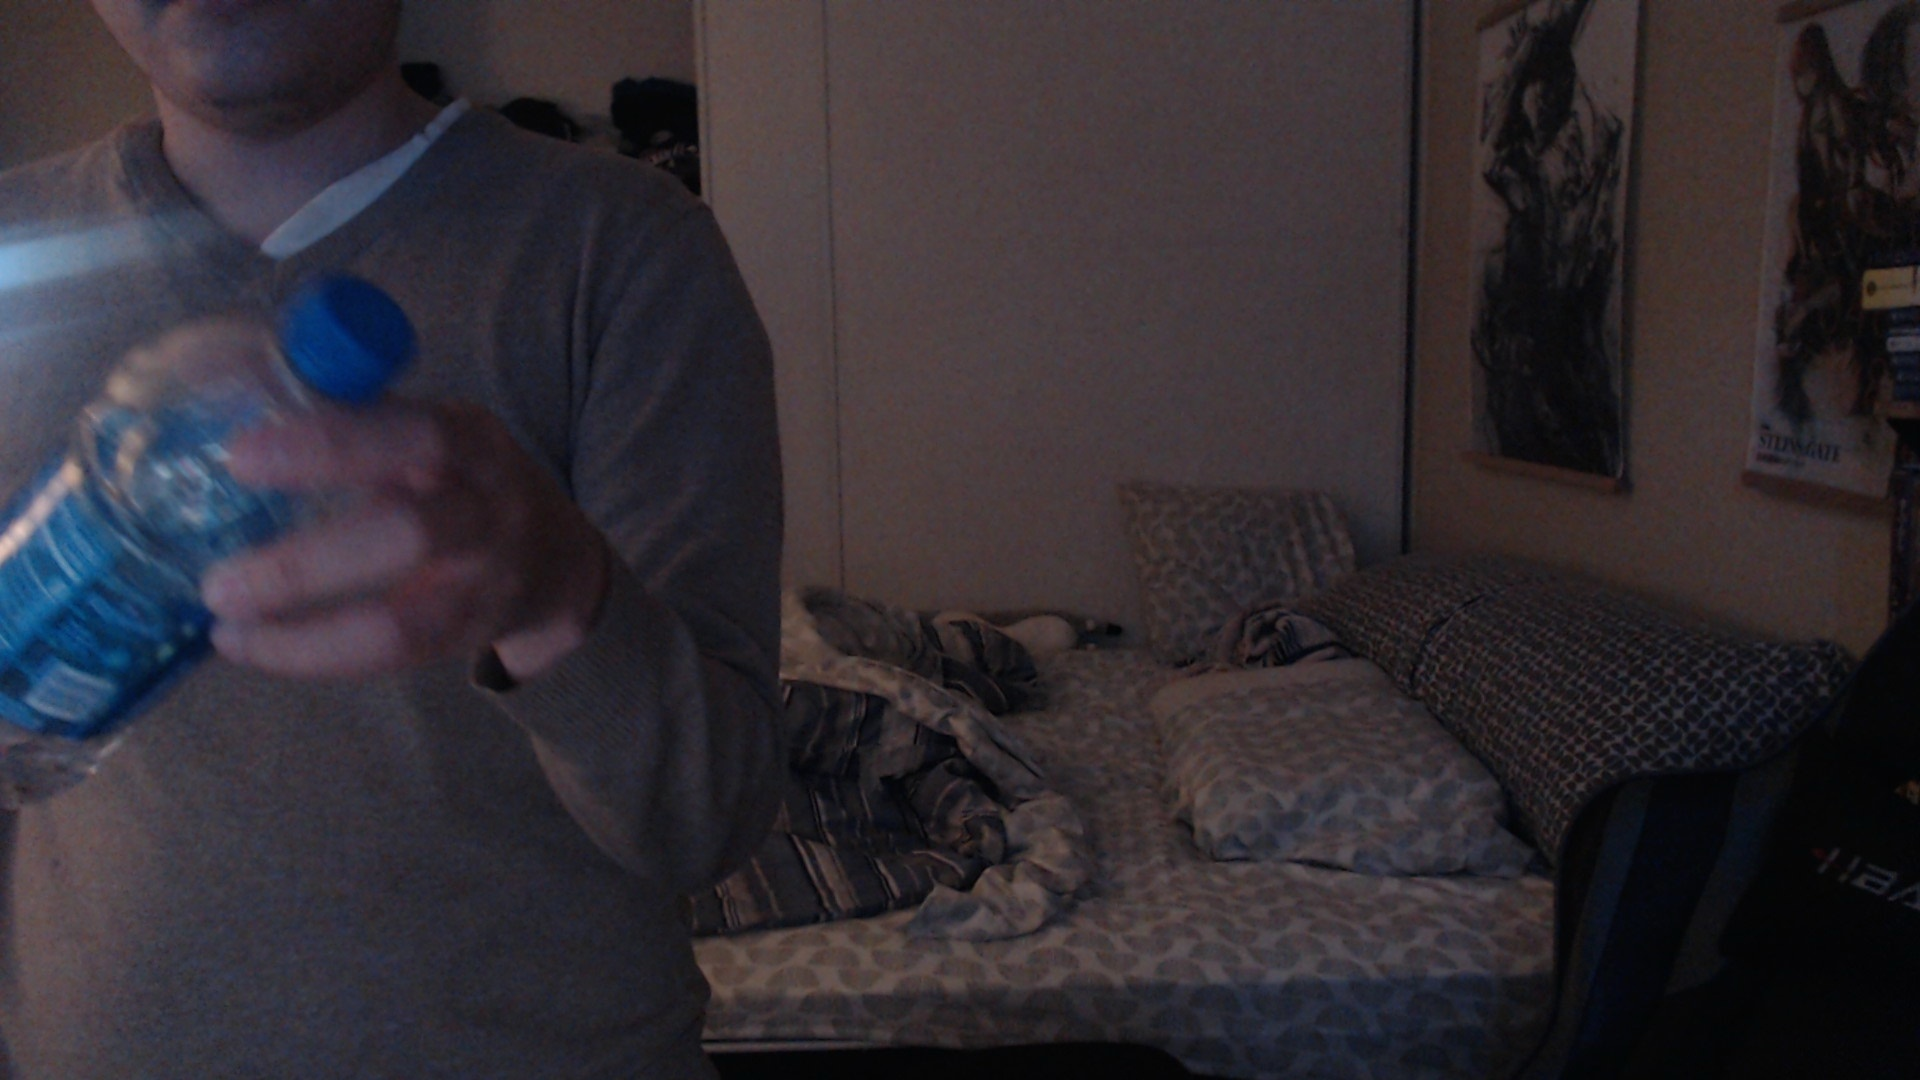bottle: (1, 269, 419, 808)
